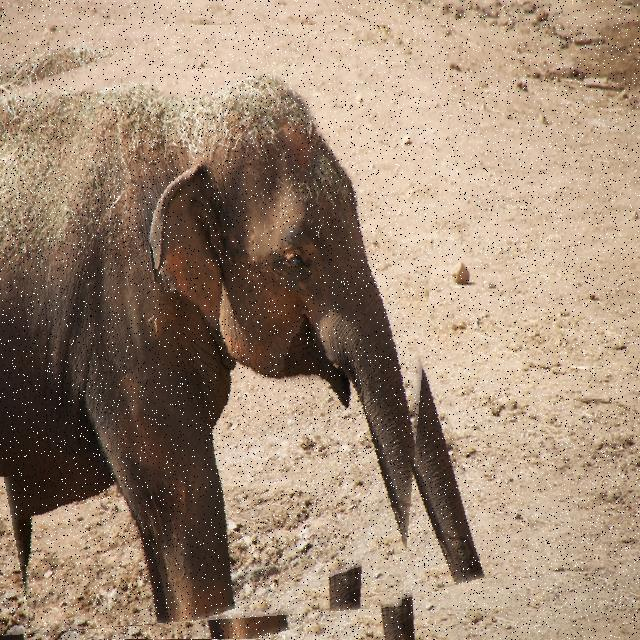elephant: (0, 25, 456, 640)
